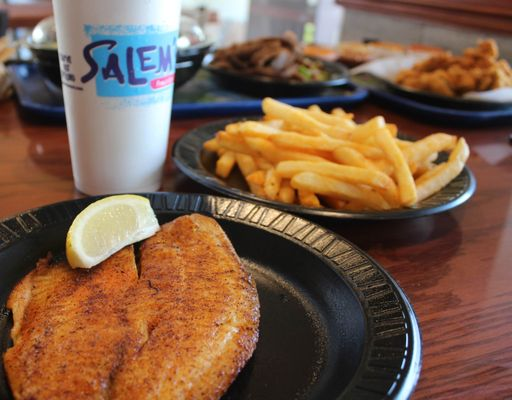pizza: (52, 1, 180, 197)
sandwich: (0, 195, 158, 342), (0, 195, 97, 375)
